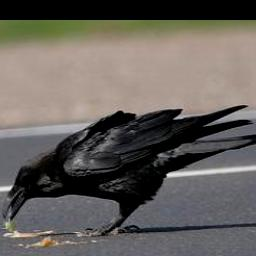Crow: (1, 104, 256, 235)
